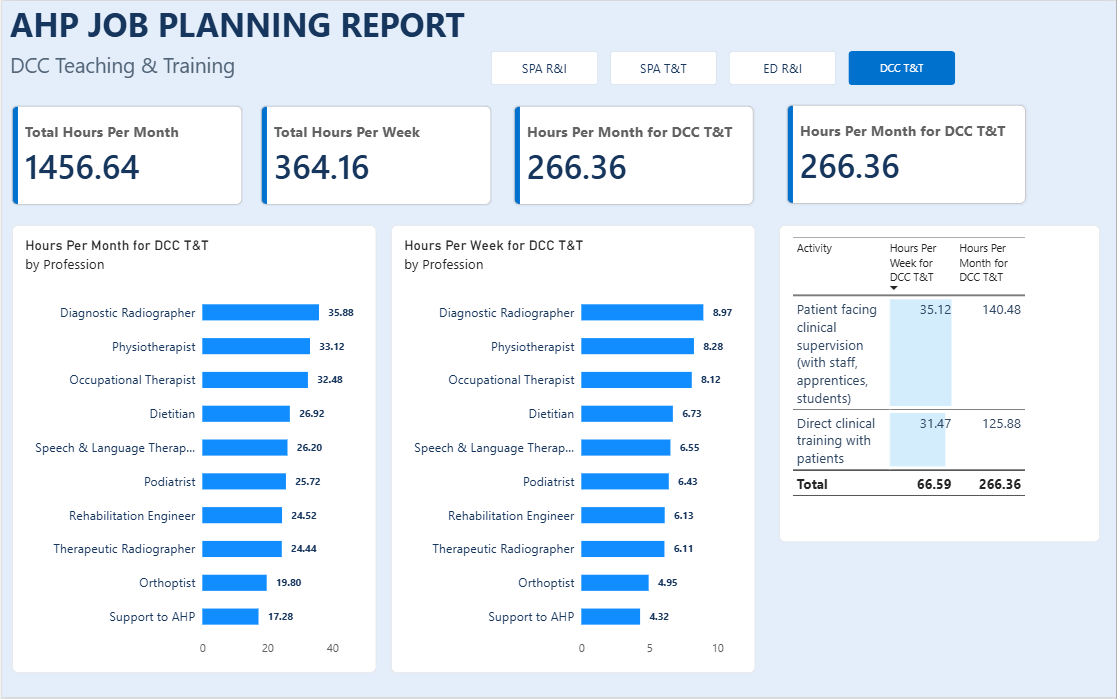

Layout of this report page (visuals, bound fields, positions):
{"tool":"powerbi","page":{"name":"DCC T&T","canvas":[1440,900],"ordinal":3},"visuals":[{"type":"textbox","box":[10.3,0,595.9,78.9],"z":0},{"type":"textbox","box":[10,526,345,281],"z":1000},{"type":"textbox","box":[10.3,64.6,471.8,54.3],"z":2000},{"type":"pageNavigator","box":[632.1,64.6,600,44],"z":3000},{"type":"cardVisual","fields":{"Data":["Measure.Total Hours Per Month"]},"box":[11.6,134.4,300,130],"z":4000},{"type":"cardVisual","fields":{"Data":["Measure.Total Hours Per Week"]},"box":[333.5,134.4,300,130],"z":5000},{"type":"cardVisual","fields":{"Data":["Measure.Hours Per Month for DCC T&T"]},"box":[660.5,134.4,312.8,130.6],"z":6000},{"type":"cardVisual","fields":{"Data":["Measure.Hours Per Month for DCC T&T"]},"box":[1013.4,133.1,311.5,130.6],"z":7000},{"type":"clusteredBarChart","title":"Hours Per Month for DCC T&T","fields":{"Category":["Dim_Profession.Position Title"],"Y":["Measure.Hours Per Month for DCC T&T"]},"box":[12.9,289.6,470.5,579.1],"z":8000},{"type":"tableEx","fields":{"Values":["Fact_Activity.Activity","Measure.Hours Per Week for DCC T&T","Measure.Hours Per Month for DCC T&T"]},"box":[1004.4,289.6,414.9,409.8],"z":9000},{"type":"clusteredBarChart","title":"Hours Per Week for DCC T&T","fields":{"Category":["Dim_Profession.Position Title"],"Y":["Measure.Hours Per Week for DCC T&T"]},"box":[502.8,289.6,470.5,579.1],"z":10000}]}

Visuals, with their boxes in screenshot pixels (x1, y1, x2, y2), scaled from the page's 1440x900 canvas onto the 1117x699 screenshot:
textbox: (x1=8, y1=0, x2=470, y2=61)
textbox: (x1=8, y1=409, x2=275, y2=627)
textbox: (x1=8, y1=50, x2=374, y2=92)
pageNavigator: (x1=490, y1=50, x2=956, y2=84)
cardVisual - Measure.Total Hours Per Month: (x1=9, y1=104, x2=242, y2=205)
cardVisual - Measure.Total Hours Per Week: (x1=259, y1=104, x2=491, y2=205)
cardVisual - Measure.Hours Per Month for DCC T&T: (x1=512, y1=104, x2=755, y2=206)
cardVisual - Measure.Hours Per Month for DCC T&T: (x1=786, y1=103, x2=1028, y2=205)
"Hours Per Month for DCC T&T" clusteredBarChart: (x1=10, y1=225, x2=375, y2=675)
tableEx - Fact_Activity.Activity x Measure.Hours Per Week for DCC T&T: (x1=779, y1=225, x2=1101, y2=543)
"Hours Per Week for DCC T&T" clusteredBarChart: (x1=390, y1=225, x2=755, y2=675)
